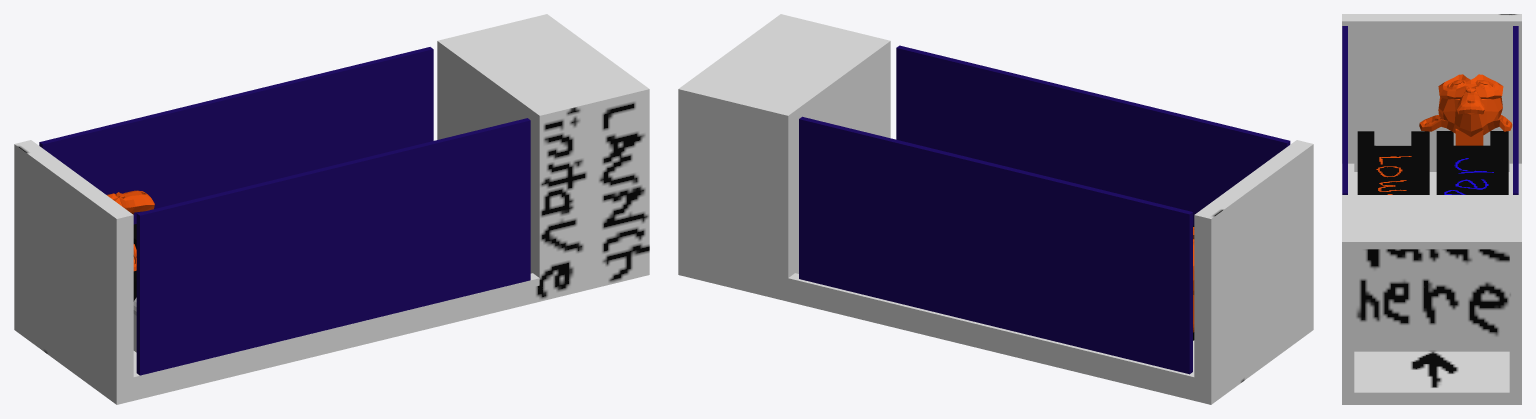
File: payload.glb
3 views of the same model, side by side, from view 1: azimuth 30°, elevation 25°; view 2: azimuth 150°, elevation 25°; view 3: azimuth 270°, elevation 25° (orthographic). The views are drawn at different scales.
Visible parts, largest first — view 1: Frame, RightWall, LeftWall, wrist; view 2: Frame, LeftWall, RightWall; view 3: Frame, lower link, upper link, wrist, LeftWall, RightWall.
Boxes of the visible parts, x1=… form: Frame: x1=14, y1=14, x2=649, y2=404; RightWall: x1=136, y1=118, x2=530, y2=375; LeftWall: x1=39, y1=47, x2=433, y2=224; wrist: x1=107, y1=190, x2=154, y2=271; Frame: x1=678, y1=14, x2=1313, y2=404; LeftWall: x1=799, y1=116, x2=1192, y2=374; RightWall: x1=896, y1=45, x2=1290, y2=225; Frame: x1=1342, y1=14, x2=1521, y2=404; lower link: x1=1357, y1=131, x2=1429, y2=194; upper link: x1=1436, y1=131, x2=1508, y2=194; wrist: x1=1419, y1=74, x2=1512, y2=145; LeftWall: x1=1513, y1=26, x2=1518, y2=194; RightWall: x1=1342, y1=26, x2=1347, y2=194.
Size of the model in its own units: 0.3 by 0.1 by 0.1.
5 materials, 3 textured.
